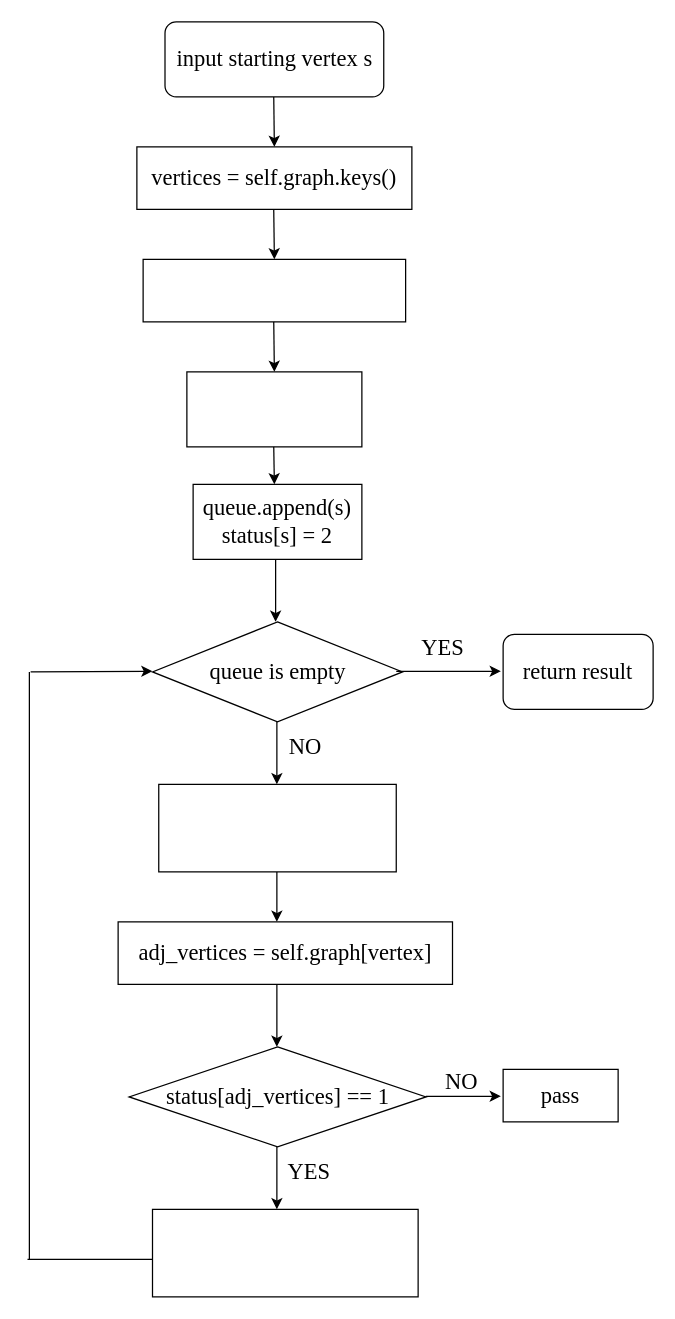
Some shapes in this 675 by 1319 pixel diagram are drawn without their labels. Here are the shapes that lost their labels. From the top down, the centre of each, then its label:
the point at 274,290: status = dict(vertices,1)
the point at 274,409: queue = [] result = []
the point at 277,827: vertex = queue.pop() result.append(vertex) status[vertex] = 3
the point at 284,1252: queue.append(adj_vertices) status[adj_vertices] = 2
